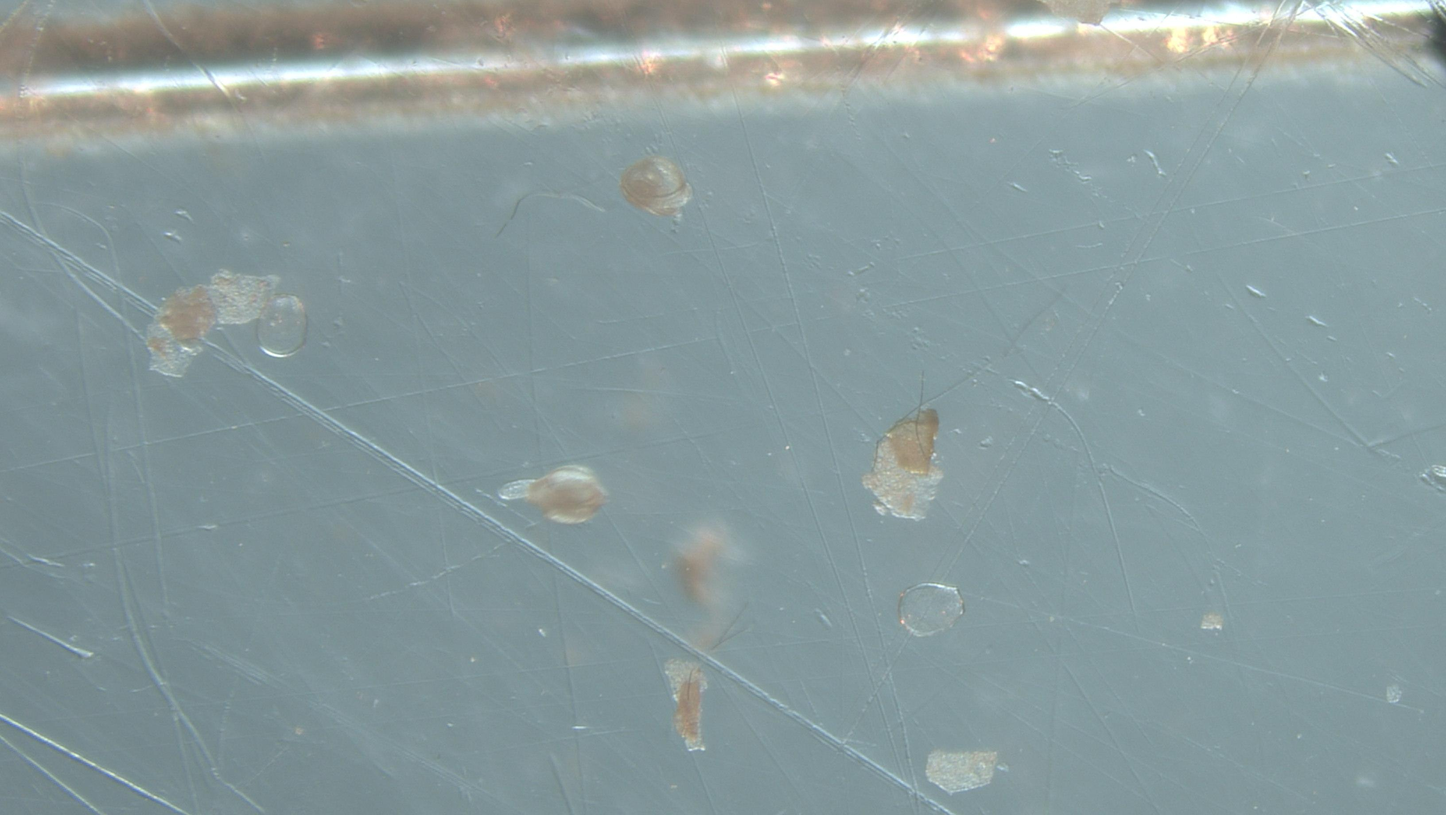dead: (898, 583, 965, 637), (257, 295, 308, 358)
live: (498, 466, 608, 525), (620, 156, 692, 218)
